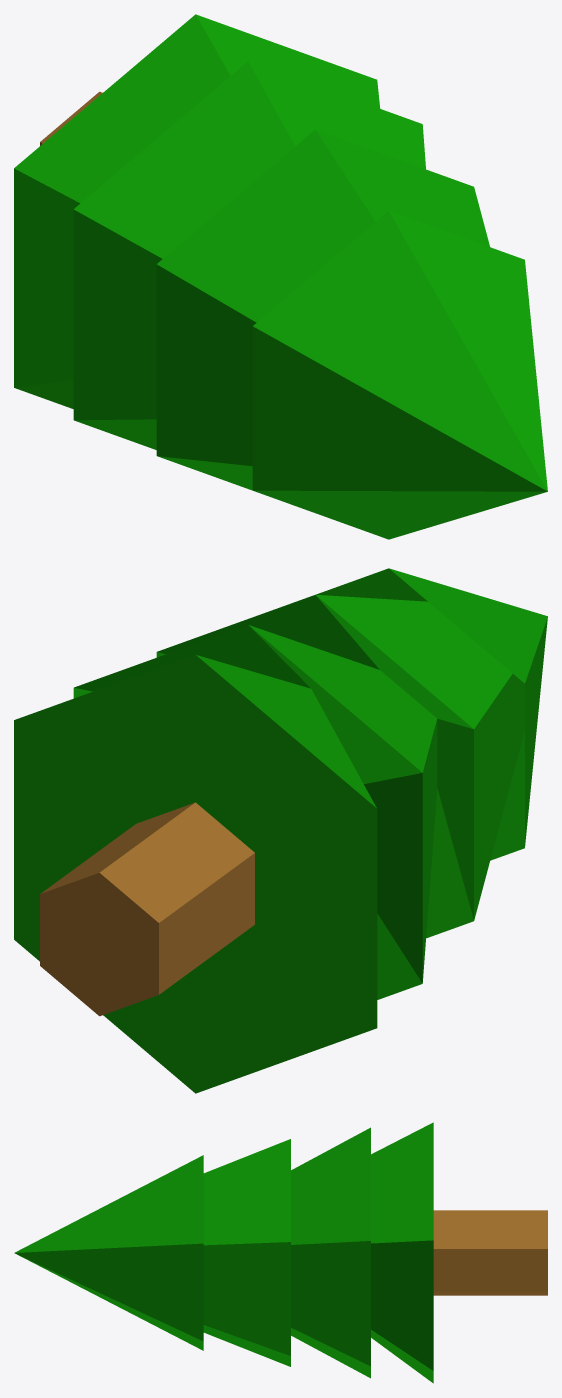
The model's file is Tree.glb.
3 renders of one model, top to bottom at view 1: azimuth 30°, elevation 25°; view 2: azimuth 150°, elevation 25°; view 3: azimuth 270°, elevation 25°, orthographic. The views are drawn at different scales.
Visible parts, largest first — view 1: shadeEmeraldGreen; view 2: shadeEmeraldGreen, shadeBrown; view 3: shadeEmeraldGreen, shadeBrown.
Part boxes in pixels (x1=…): shadeEmeraldGreen: x1=14, y1=14, x2=547, y2=539; shadeEmeraldGreen: x1=14, y1=568, x2=547, y2=1093; shadeBrown: x1=40, y1=802, x2=254, y2=1016; shadeEmeraldGreen: x1=14, y1=1122, x2=433, y2=1383; shadeBrown: x1=433, y1=1210, x2=547, y2=1295.
Size of the model in its own units: 2.3 by 2.66 by 4.93.
